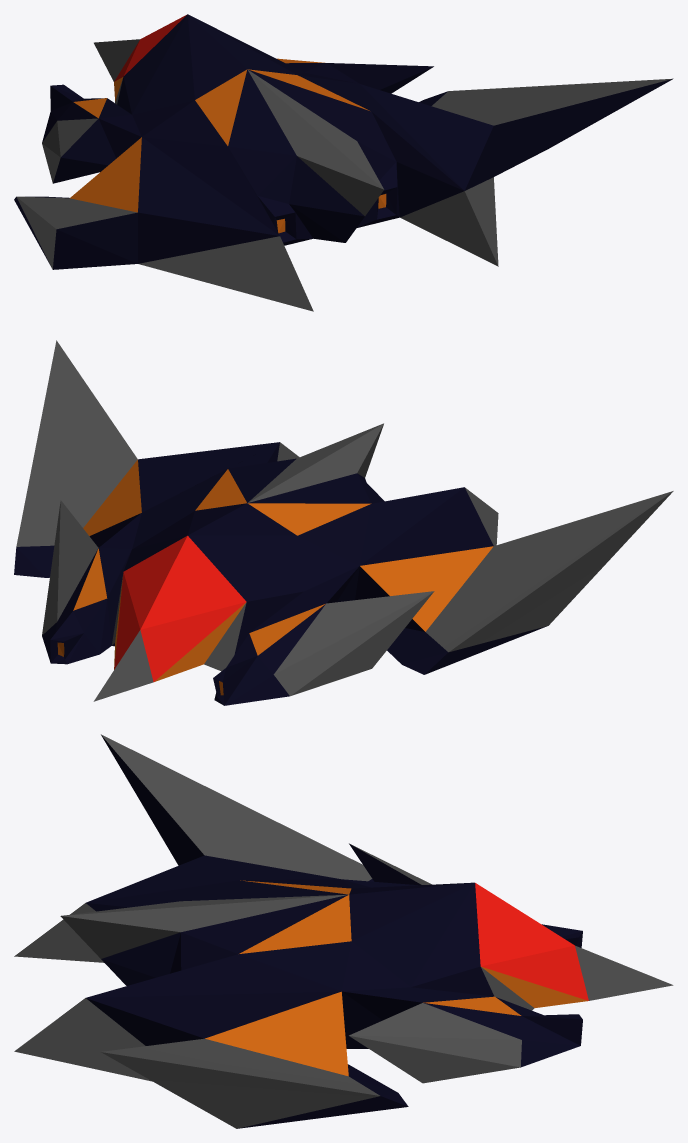
The model's file is Nerotist.obj.
The picture shows the model from 3 angles, top to bottom: view 1: azimuth 30°, elevation 25°; view 2: azimuth 150°, elevation 25°; view 3: azimuth 270°, elevation 25°; orthographic projection. The views are drawn at different scales.
Visible parts, largest first — view 1: Cube.001; view 2: Cube.001; view 3: Cube.001.
Part boxes in pixels (x1=…): Cube.001: x1=14, y1=14, x2=673, y2=311; Cube.001: x1=14, y1=340, x2=673, y2=705; Cube.001: x1=14, y1=734, x2=673, y2=1128.
Size of the model in its own units: 25.15 by 4.86 by 22.06.
